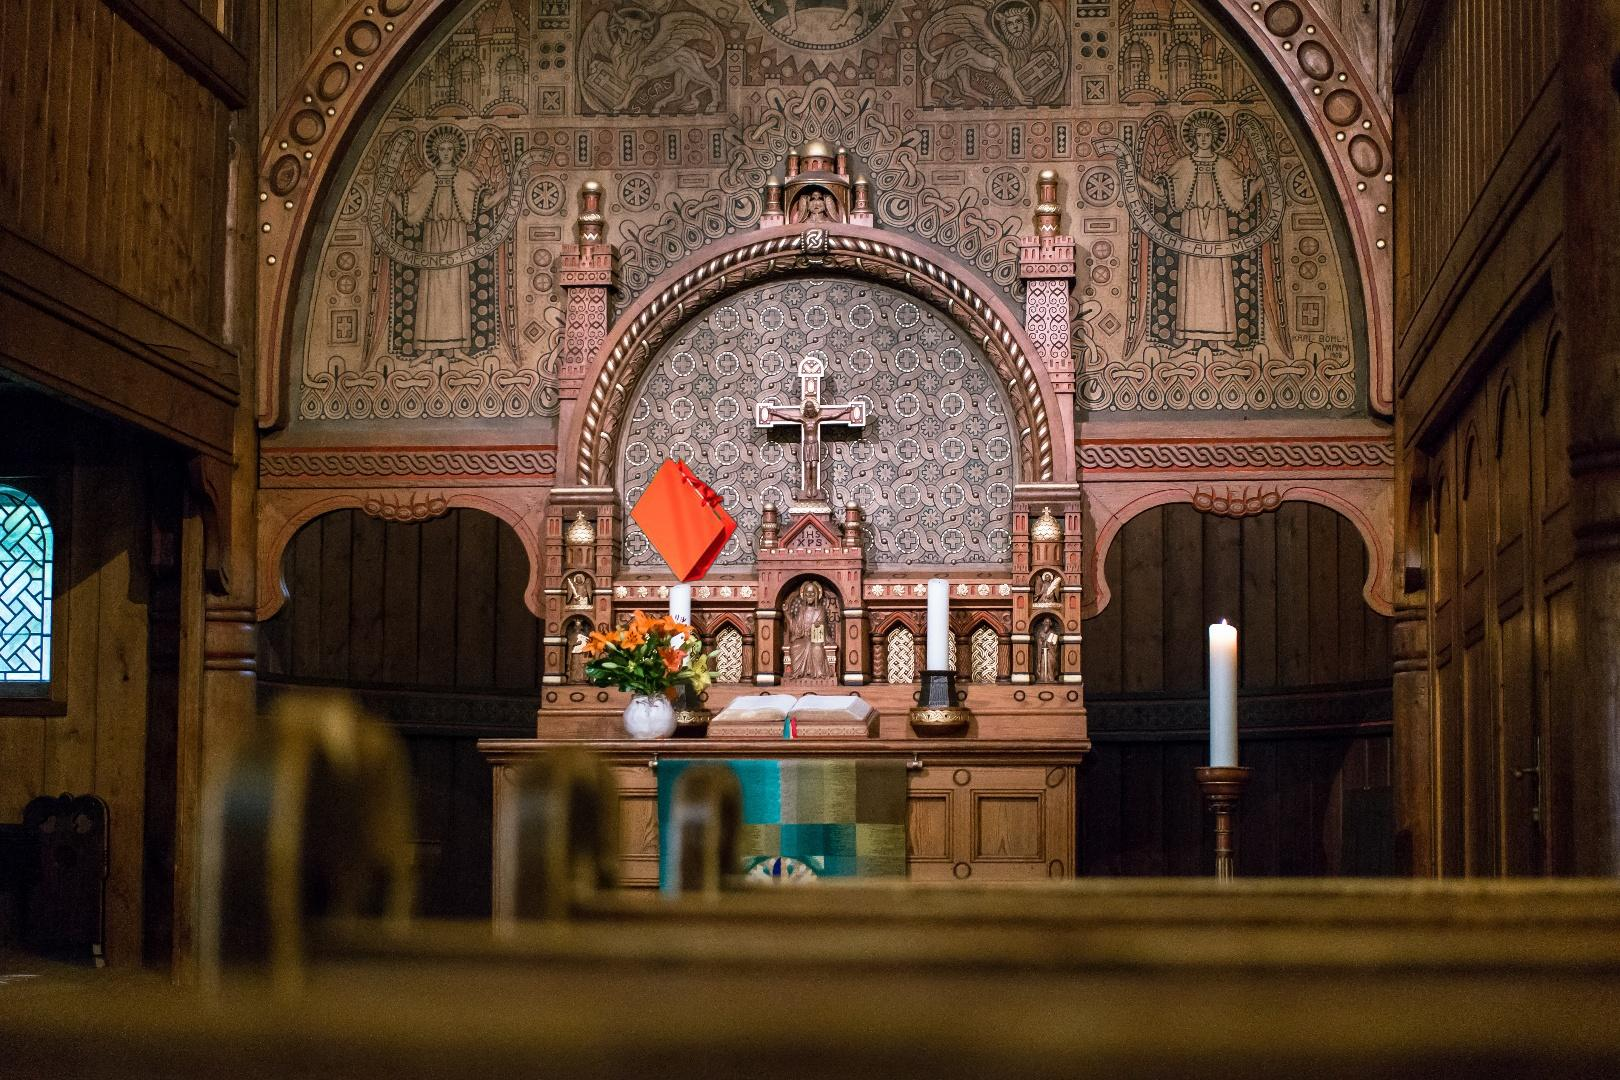paper-bag: (629, 454, 741, 586)
